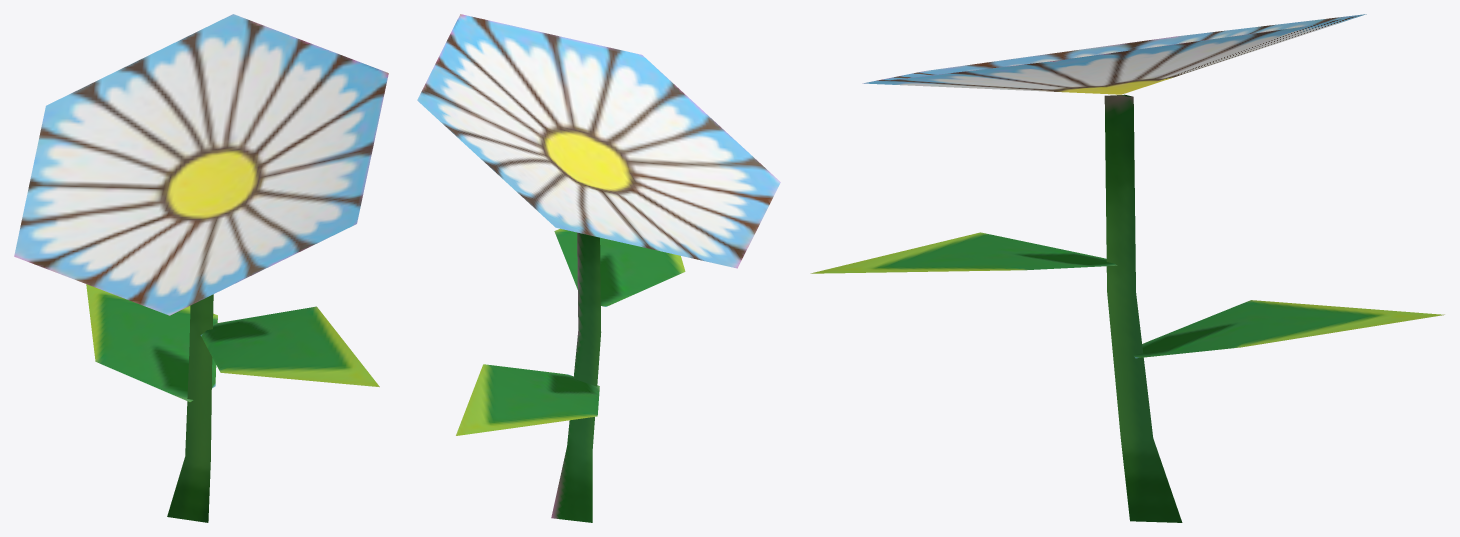
Rendered from hua_l3.fbx.
3 renders of one model, left to right at view 1: azimuth 30°, elevation 25°; view 2: azimuth 150°, elevation 25°; view 3: azimuth 270°, elevation 25°, orthographic. The views are drawn at different scales.
Parts seen in each view (by area): view 1: hua_03; view 2: hua_03; view 3: hua_03.
Boxes of the visible parts, x1=… form: hua_03: x1=14, y1=14, x2=388, y2=522; hua_03: x1=417, y1=14, x2=780, y2=522; hua_03: x1=810, y1=14, x2=1444, y2=522.
Size of the model in its own units: 0.4157 by 0.5304 by 0.5531.
